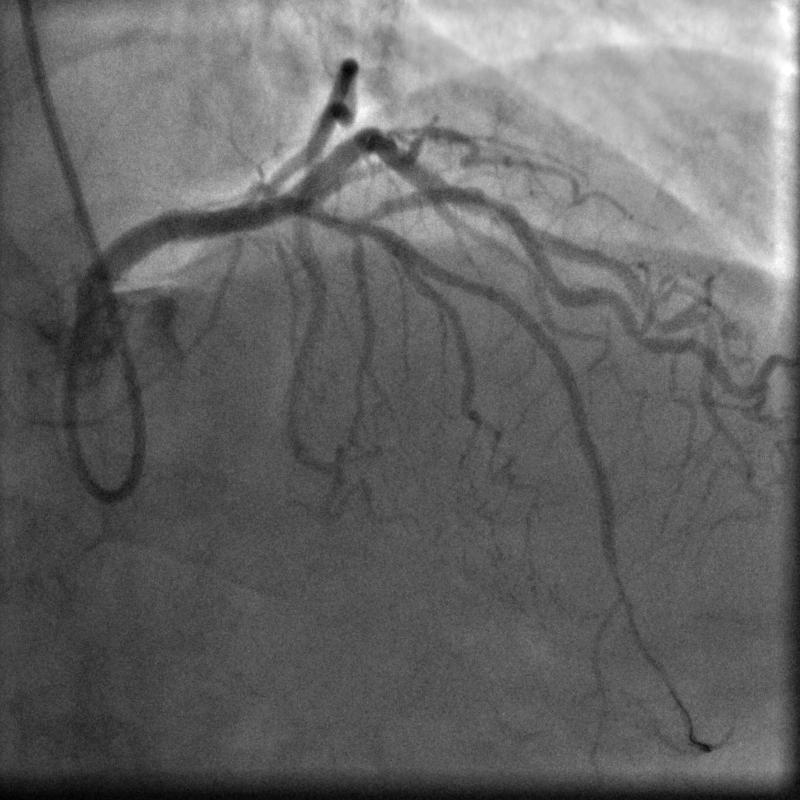Stenosis: (474, 184, 515, 220)
